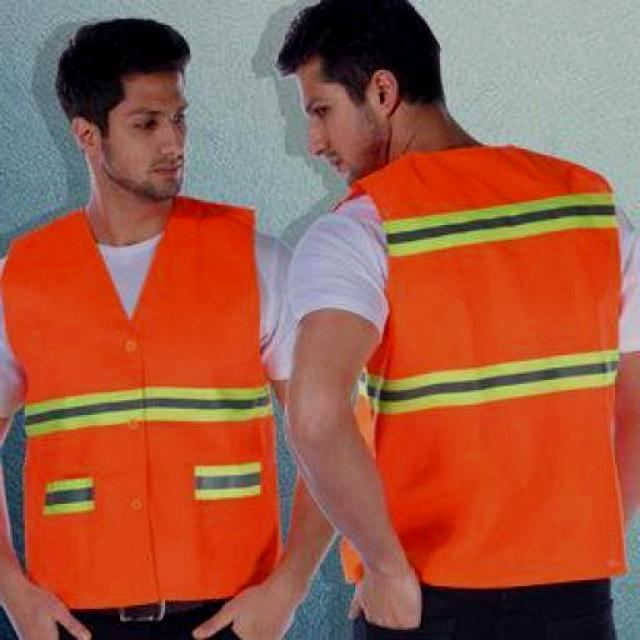face_nomask: (122, 97, 199, 188), (297, 92, 363, 177)
hand_noglove: (192, 584, 307, 640), (0, 590, 98, 640), (343, 573, 426, 632)
head_nohelmet: (274, 0, 448, 99), (49, 12, 194, 106)
person: (270, 2, 640, 640), (0, 22, 365, 640)
vest: (326, 140, 632, 589), (1, 188, 285, 608)
